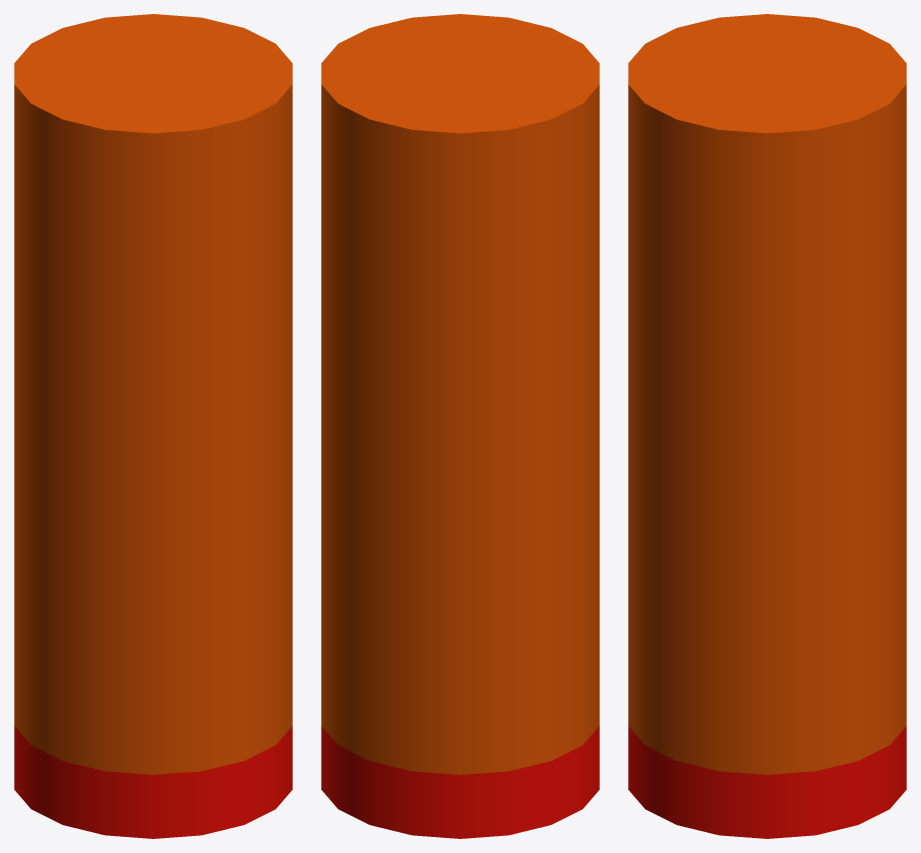
The model's file is redcrayon_Down.FBX.
3 views of the same model, side by side, from view 1: azimuth 30°, elevation 25°; view 2: azimuth 150°, elevation 25°; view 3: azimuth 270°, elevation 25° (orthographic).
Parts seen in each view (by area): view 1: Cylinder004, Cylinder003; view 2: Cylinder004, Cylinder003; view 3: Cylinder004, Cylinder003.
Boxes of the visible parts, x1=… form: Cylinder004: x1=14, y1=14, x2=292, y2=774; Cylinder003: x1=14, y1=726, x2=292, y2=838; Cylinder004: x1=321, y1=14, x2=599, y2=774; Cylinder003: x1=321, y1=726, x2=599, y2=838; Cylinder004: x1=628, y1=14, x2=906, y2=774; Cylinder003: x1=628, y1=726, x2=906, y2=838.
Bounding box in the file's own units: 12.9 × 35.53 × 12.71.
